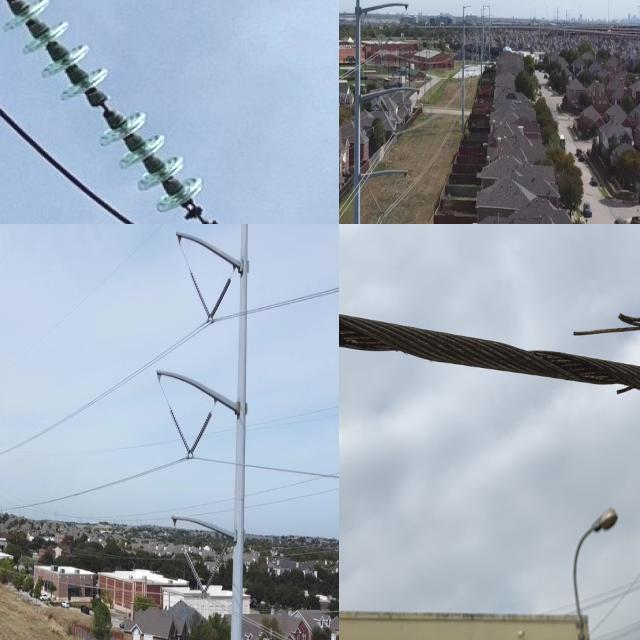正常绝缘子: (0, 0, 254, 224), (187, 267, 213, 320), (200, 548, 226, 599), (168, 404, 193, 456), (182, 547, 207, 598), (188, 410, 213, 458), (208, 277, 232, 323), (379, 18, 403, 55), (378, 186, 401, 222), (365, 182, 385, 220), (391, 105, 412, 139), (378, 99, 397, 136), (366, 19, 385, 53)
电缆破损: (339, 281, 640, 411)
绝缘子破损: (85, 95, 127, 118)
